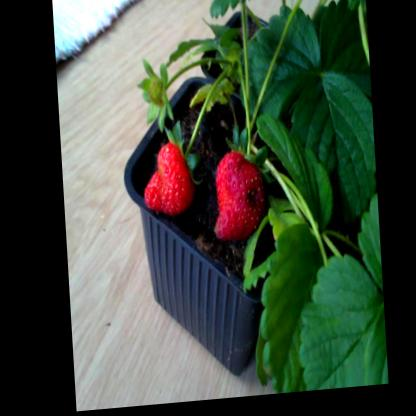ripe: (214, 141, 268, 248), (138, 130, 191, 230)
unripe: (144, 73, 167, 112)
